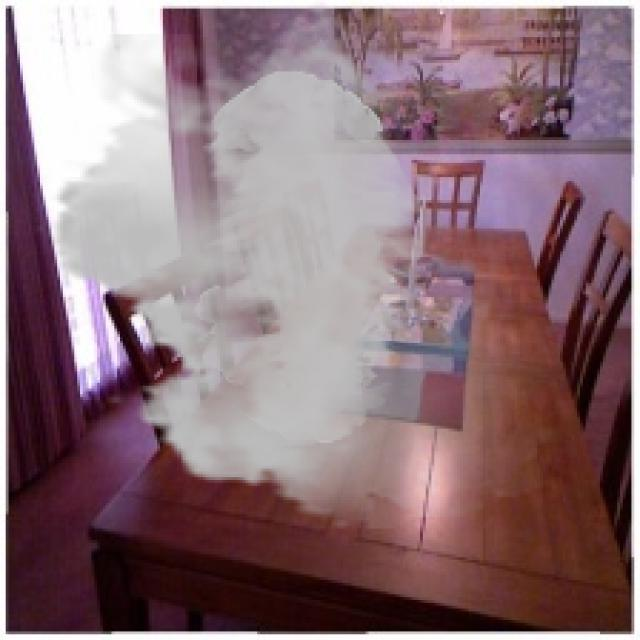smoke: (32, 0, 577, 529)
